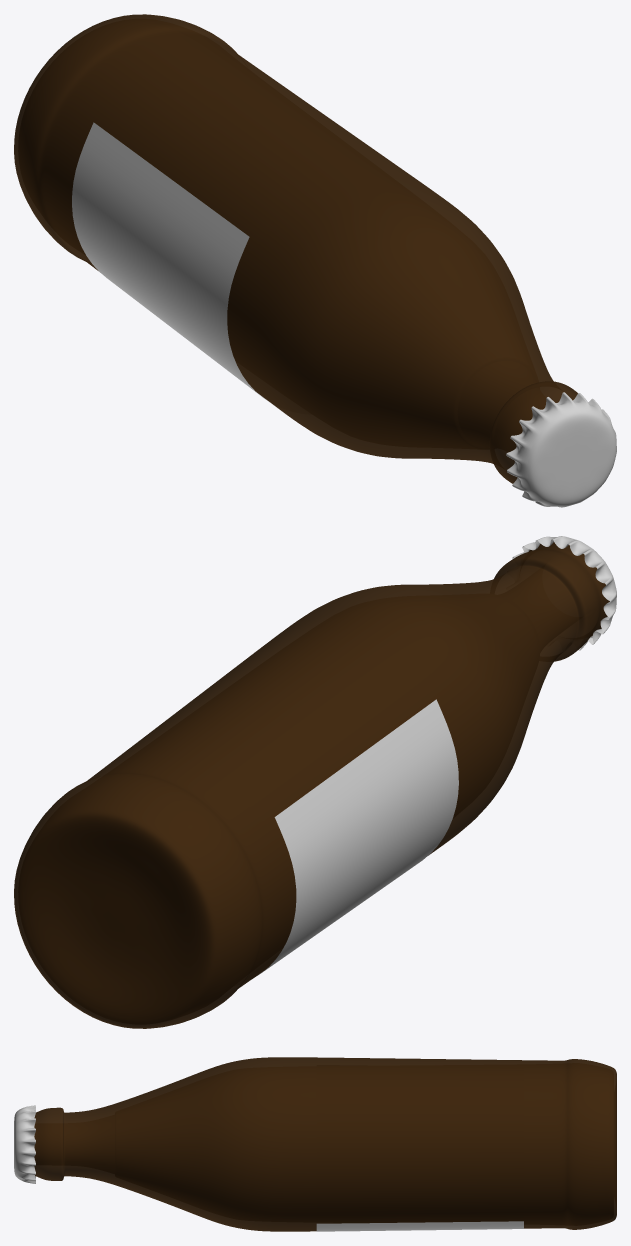
File: beer.obj
3 views of the same model, one above another, from view 1: azimuth 30°, elevation 25°; view 2: azimuth 150°, elevation 25°; view 3: azimuth 270°, elevation 25° (orthographic). The views are drawn at different scales.
Parts seen in each view (by area): view 1: 14043_16_oz__Beer_Bottle_bottle, 14043_16_oz__Beer_Bottle_alcohol, 14043_16_oz__Beer_Bottle_label, 14043_16_oz__Beer_Bottle_cap; view 2: 14043_16_oz__Beer_Bottle_bottle, 14043_16_oz__Beer_Bottle_alcohol, 14043_16_oz__Beer_Bottle_label, 14043_16_oz__Beer_Bottle_cap; view 3: 14043_16_oz__Beer_Bottle_bottle, 14043_16_oz__Beer_Bottle_alcohol, 14043_16_oz__Beer_Bottle_label, 14043_16_oz__Beer_Bottle_cap.
Boxes of the visible parts, <box> form: 14043_16_oz__Beer_Bottle_bottle: <box>14,14,577,483</box>; 14043_16_oz__Beer_Bottle_alcohol: <box>18,19,539,448</box>; 14043_16_oz__Beer_Bottle_label: <box>72,122,267,400</box>; 14043_16_oz__Beer_Bottle_cap: <box>506,392,616,507</box>; 14043_16_oz__Beer_Bottle_bottle: <box>14,542,609,1028</box>; 14043_16_oz__Beer_Bottle_alcohol: <box>18,594,539,1023</box>; 14043_16_oz__Beer_Bottle_label: <box>253,699,458,978</box>; 14043_16_oz__Beer_Bottle_cap: <box>512,536,616,650</box>; 14043_16_oz__Beer_Bottle_bottle: <box>34,1057,616,1231</box>; 14043_16_oz__Beer_Bottle_alcohol: <box>115,1063,613,1225</box>; 14043_16_oz__Beer_Bottle_label: <box>316,1221,523,1231</box>; 14043_16_oz__Beer_Bottle_cap: <box>14,1105,35,1183</box>.
Bounding box in the file's own units: 2.8 × 2.8 × 9.69.
